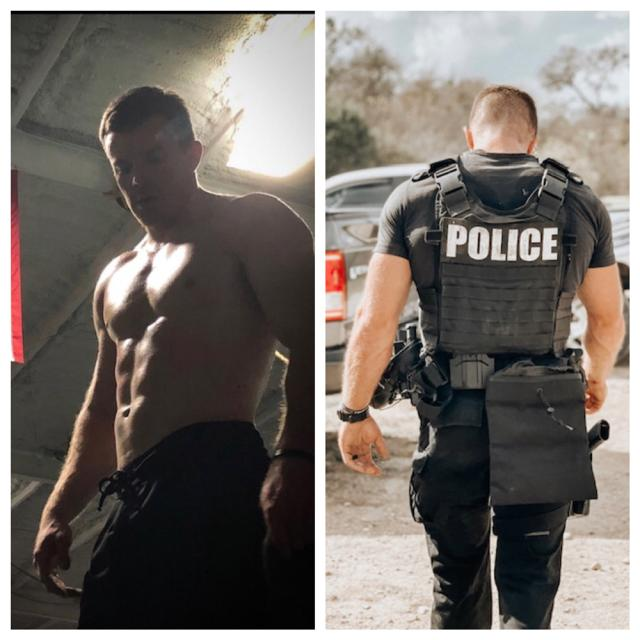police: (337, 24, 640, 628)
